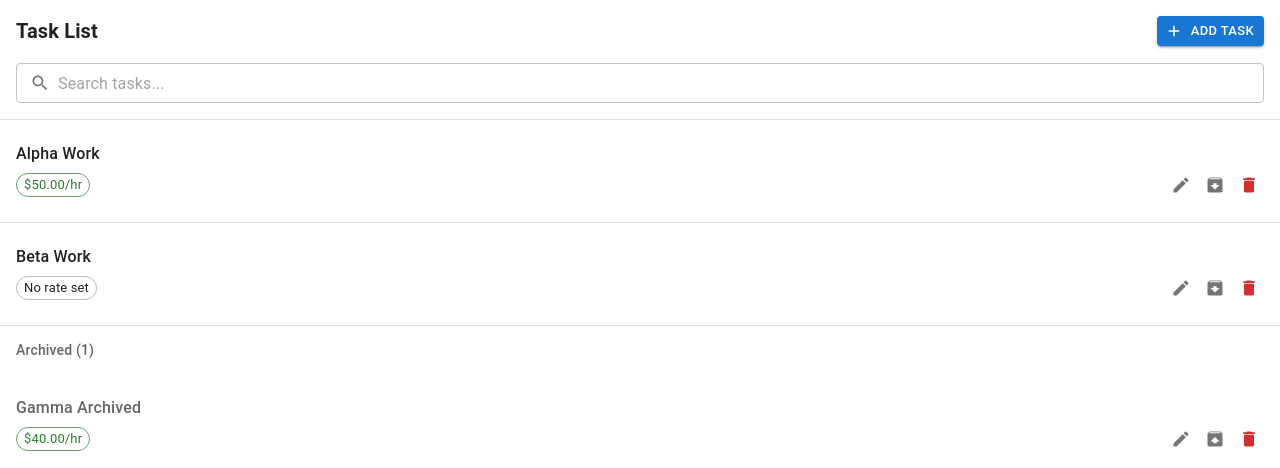
Scenario: TaskListPane › shows the no-match empty state when search finds nothing
This screenshot has width=1280, height=468.
Type "zzz" into the field labelled "Search tasks" at (661, 83), box top-left (58, 63), bottom-right (1264, 103)
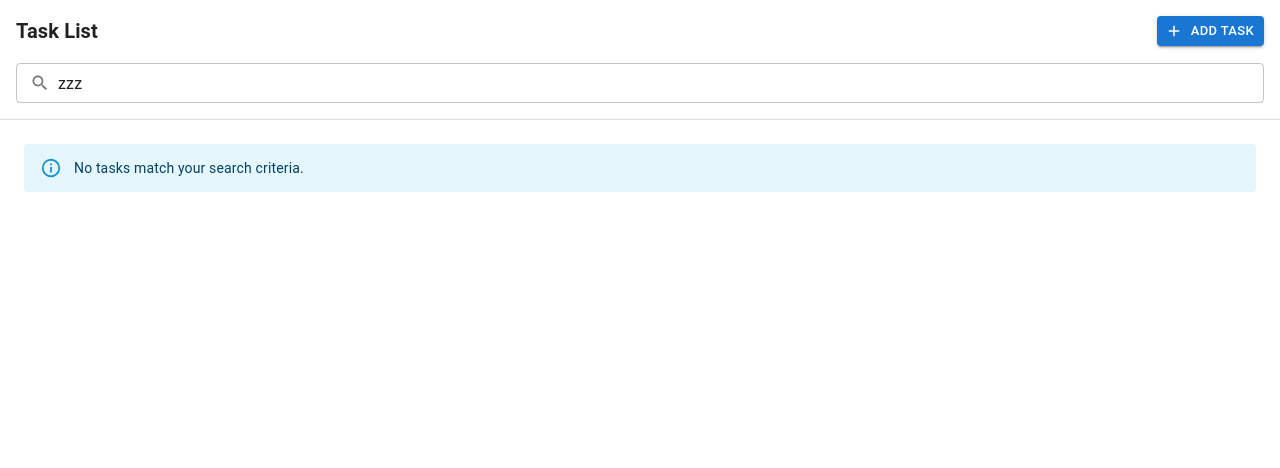
Expected: the text "No tasks match your search criteria." is shown, top-left (74, 158), bottom-right (304, 178)
